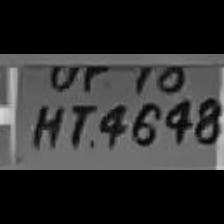4: (94, 98, 126, 150), (160, 96, 190, 146)
6: (127, 97, 161, 149)
7: (126, 58, 152, 94)
8: (190, 90, 222, 148)
H: (26, 99, 64, 151)
P: (76, 58, 114, 94)
T: (63, 98, 95, 150)
U: (42, 58, 80, 92)
